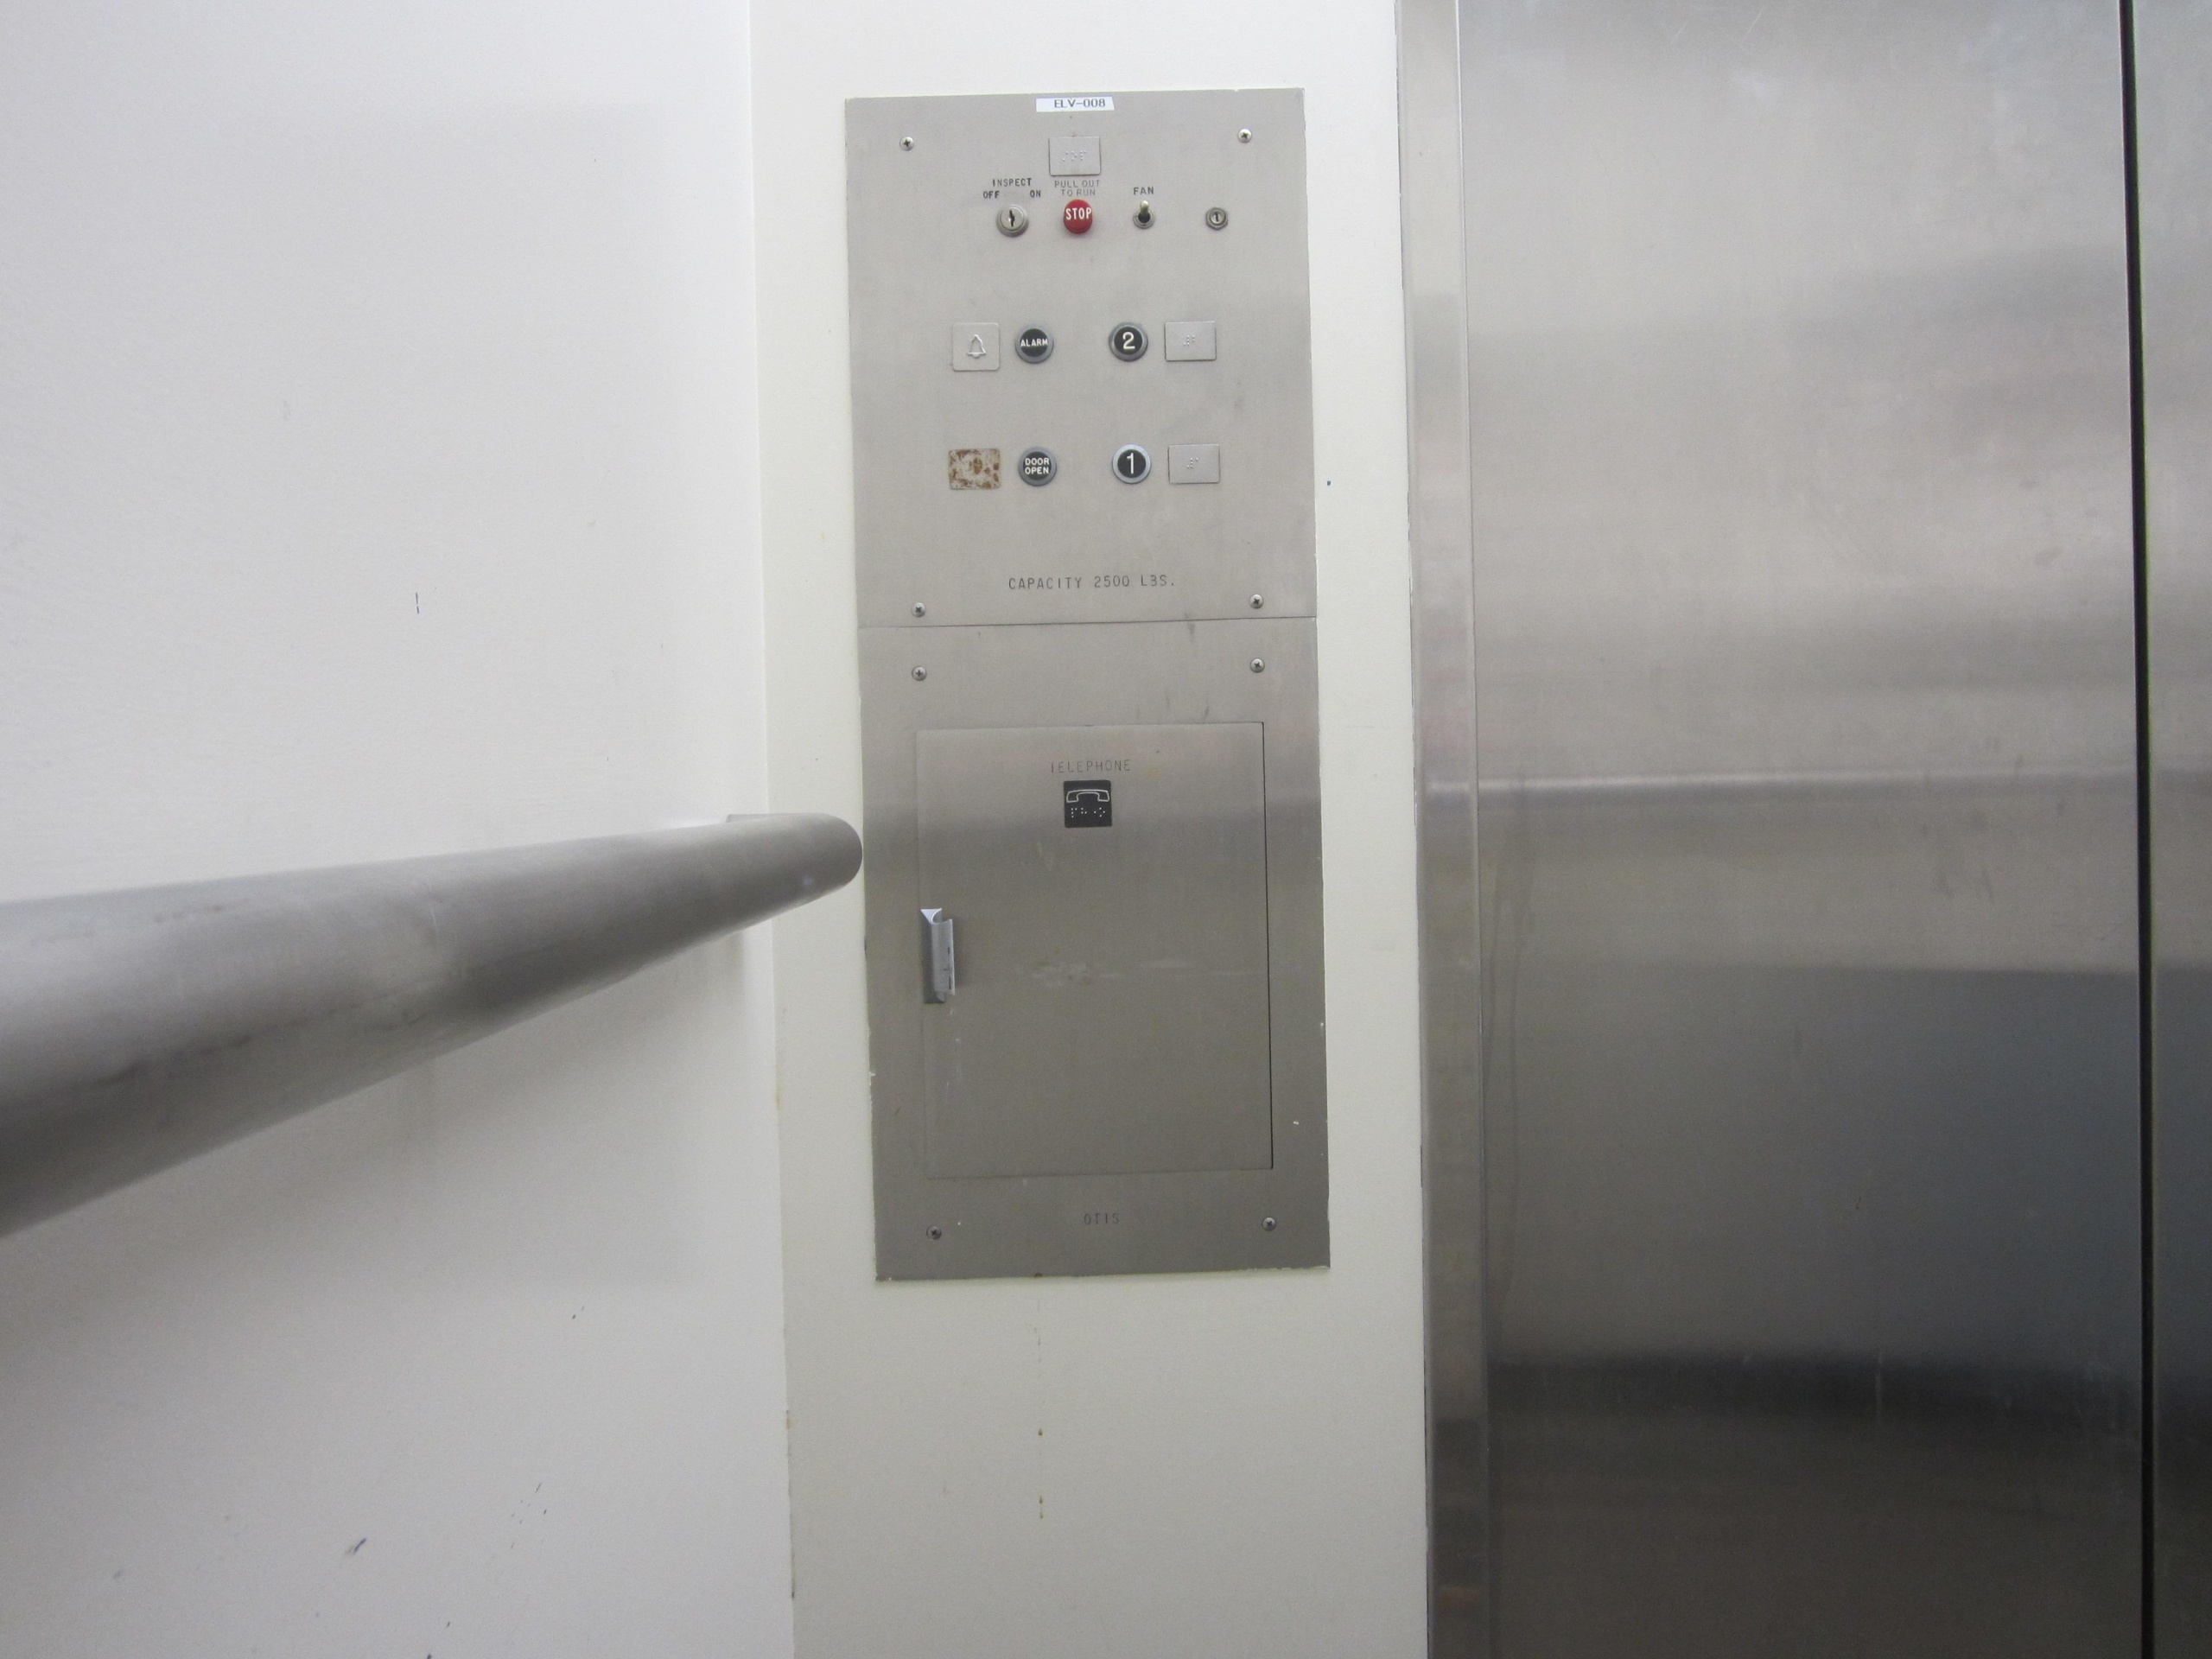1: (1111, 444, 1150, 484)
2: (1106, 322, 1151, 361)
alarm: (949, 319, 1001, 373)
keyhole: (995, 200, 1031, 239)
switch: (1130, 199, 1157, 234)
text: (1010, 324, 1054, 364), (1015, 446, 1059, 486)
text_stop: (1059, 199, 1097, 234)
